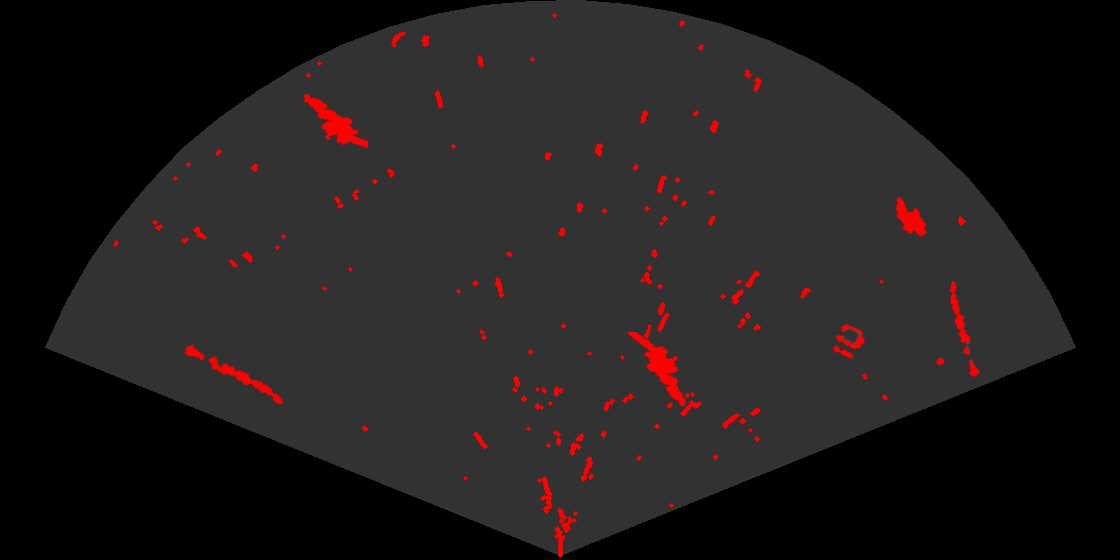AUV: (894, 195, 928, 239)
ball: (831, 323, 867, 360)
chain: (183, 343, 285, 406), (948, 280, 981, 379)
frogman: (628, 332, 688, 408), (302, 92, 368, 150)
